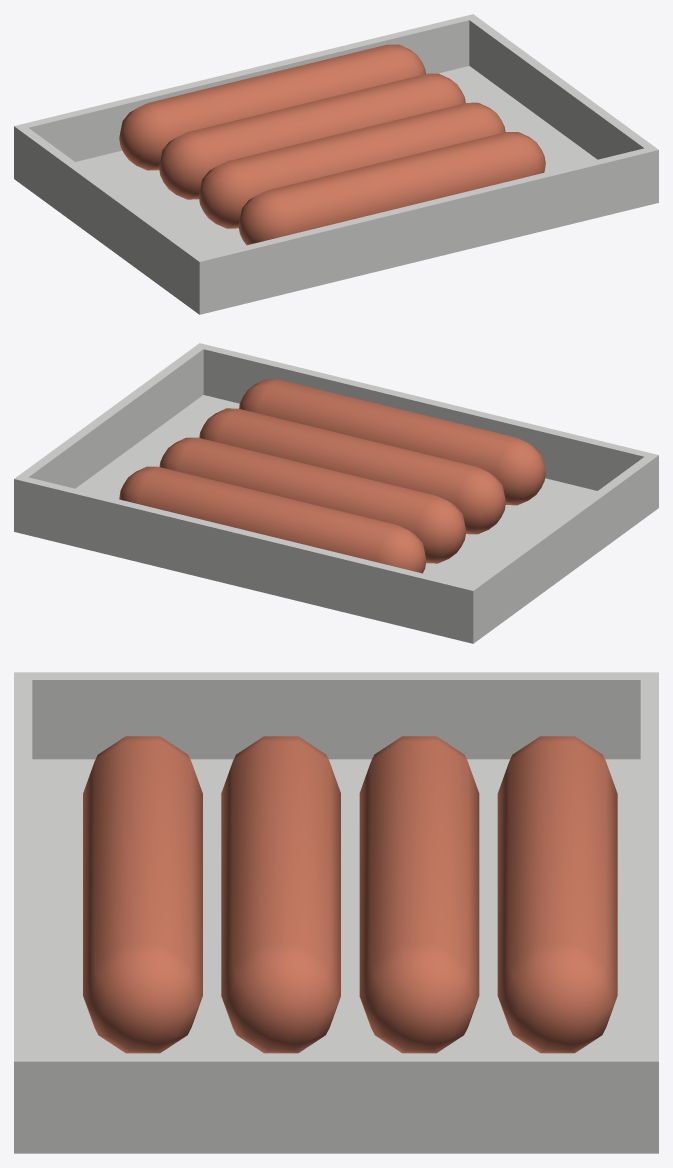
The model's file is Sausages.fbx.
The picture shows the model from 3 angles, top to bottom: view 1: azimuth 30°, elevation 25°; view 2: azimuth 150°, elevation 25°; view 3: azimuth 270°, elevation 25°; orthographic projection. The views are drawn at different scales.
Visible parts, largest first — view 1: Sausages; view 2: Sausages; view 3: Sausages.
Part boxes in pixels (bbox=[...]): Sausages: bbox=[14, 14, 658, 314]; Sausages: bbox=[14, 343, 658, 643]; Sausages: bbox=[14, 672, 658, 1153].
Bounding box in the file's own units: 0.2 × 0.0277 × 0.14.
